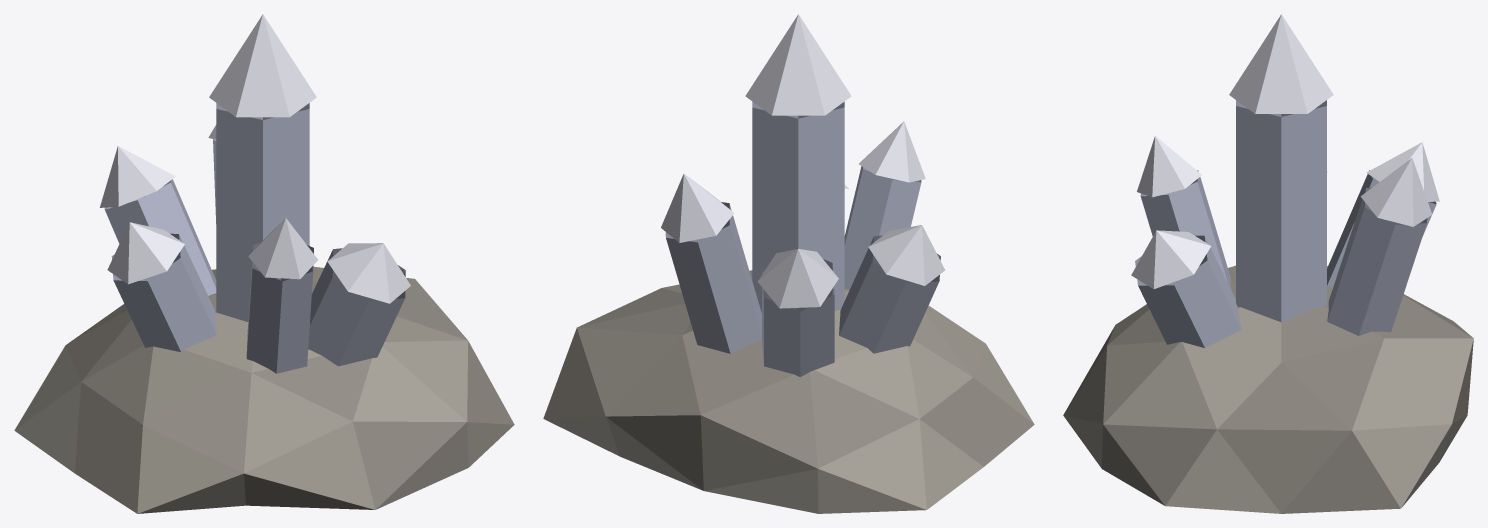
The model's file is quartz_b.glb.
3 renders of one model, left to right at view 1: azimuth 30°, elevation 25°; view 2: azimuth 150°, elevation 25°; view 3: azimuth 270°, elevation 25°, orthographic. The views are drawn at different scales.
Parts seen in each view (by area): view 1: quartz_b; view 2: quartz_b; view 3: quartz_b.
Boxes of the visible parts, x1,y1,x2,y2 form: quartz_b: [14, 14, 514, 513]; quartz_b: [543, 14, 1034, 513]; quartz_b: [1063, 14, 1473, 513].
Bounding box in the file's own units: 0.9358 × 0.93 × 0.8624.
